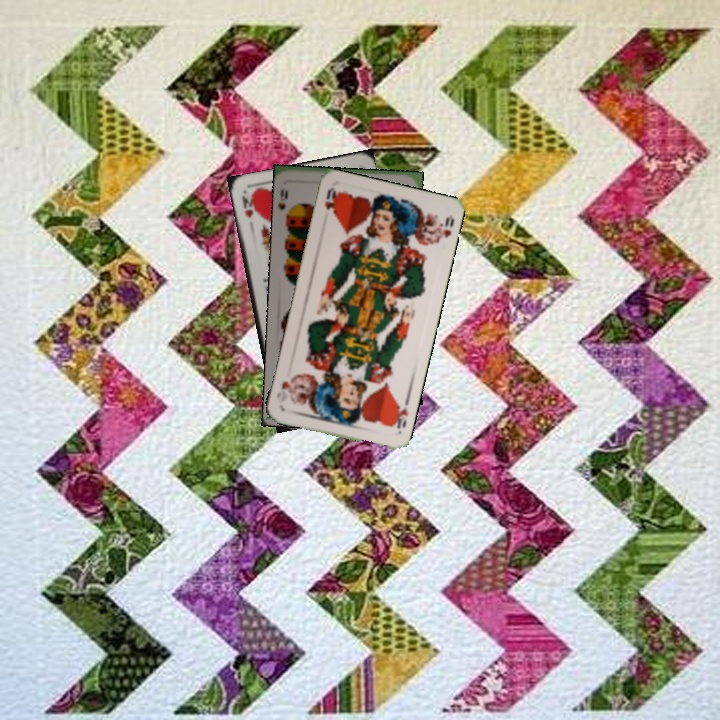HK: (237, 189, 256, 220)
HO: (388, 399, 411, 431), (320, 184, 340, 216)
S9: (281, 186, 295, 221)
